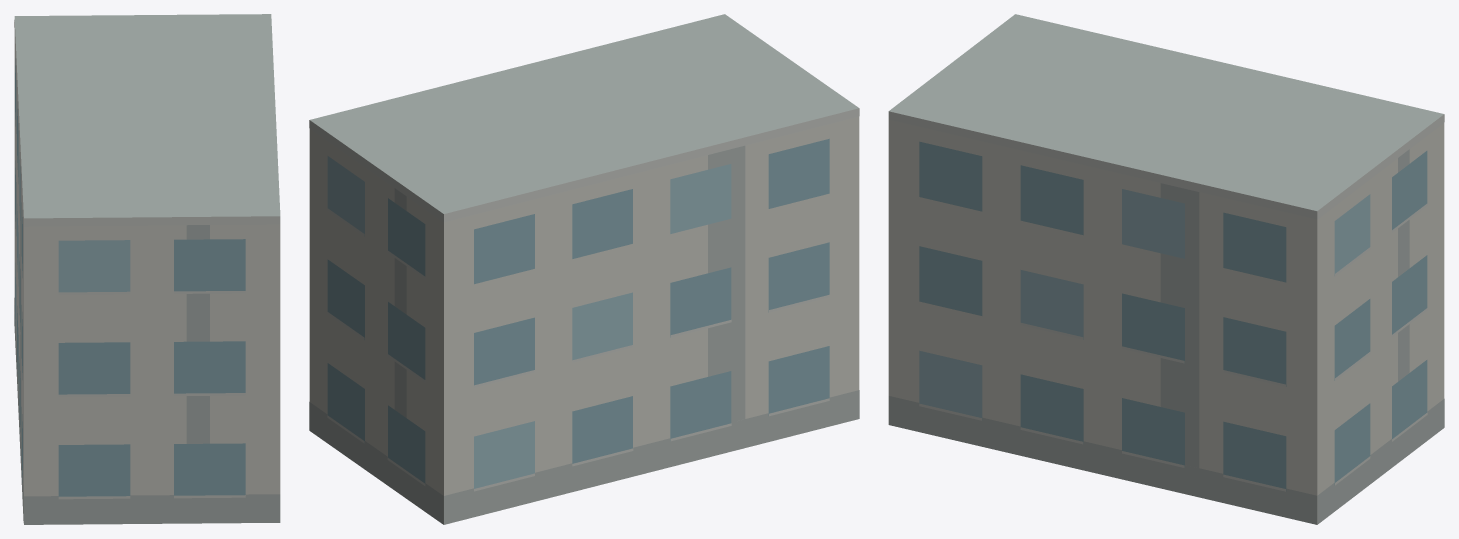
The model's file is residential-afd22d92-c574-4eec-864b-5f1edadfac46.glb.
3 renders of one model, left to right at view 1: azimuth 30°, elevation 25°; view 2: azimuth 150°, elevation 25°; view 3: azimuth 270°, elevation 25°, orthographic. The views are drawn at different scales.
Parts seen in each view (by area): view 1: residential-afd22d92-c574-4eec-864b-5f1edadfac46.tmp; view 2: residential-afd22d92-c574-4eec-864b-5f1edadfac46.tmp; view 3: residential-afd22d92-c574-4eec-864b-5f1edadfac46.tmp.
Part boxes in pixels (x1,y1,x2,y2): residential-afd22d92-c574-4eec-864b-5f1edadfac46.tmp: (14,14,280,524); residential-afd22d92-c574-4eec-864b-5f1edadfac46.tmp: (309,14,859,524); residential-afd22d92-c574-4eec-864b-5f1edadfac46.tmp: (888,14,1444,524).
Size of the model in its own units: 12.35 by 9.15 by 14.7.
